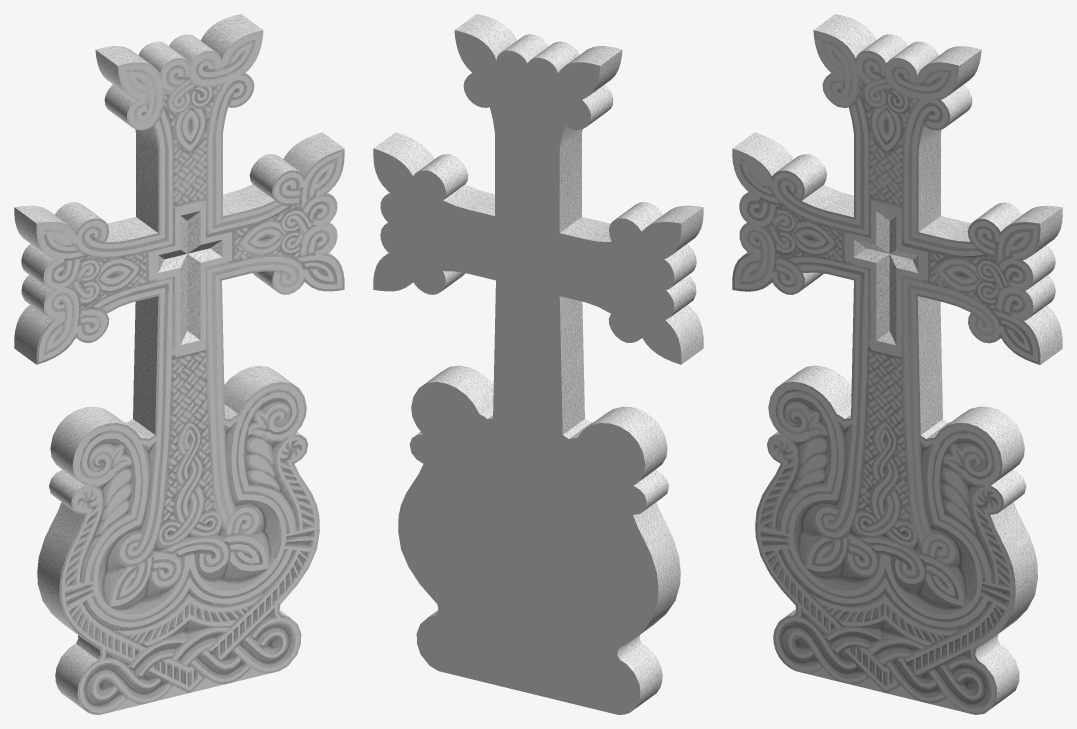
The model's file is cne4be183d3e_tkf.glb.
3 renders of one model, left to right at view 1: azimuth 30°, elevation 25°; view 2: azimuth 150°, elevation 25°; view 3: azimuth 330°, elevation 25°, orthographic.
Visible parts, largest first — view 1: Pam-d03-014_2_notexture, Pam-d03-014; view 2: Pam-d03-014, Pam-d03-014_2_notexture; view 3: Pam-d03-014_2_notexture, Pam-d03-014.
Boxes of the visible parts, box(x1,y1,x2,y2) form: Pam-d03-014_2_notexture: box(14, 14, 344, 714); Pam-d03-014: box(39, 33, 342, 712); Pam-d03-014: box(373, 30, 681, 714); Pam-d03-014_2_notexture: box(374, 14, 703, 708); Pam-d03-014_2_notexture: box(732, 14, 1062, 714); Pam-d03-014: box(734, 33, 1037, 712).
Size of the model in its own units: 0.4 by 0.8 by 0.05.
1 material, 1 textured.
